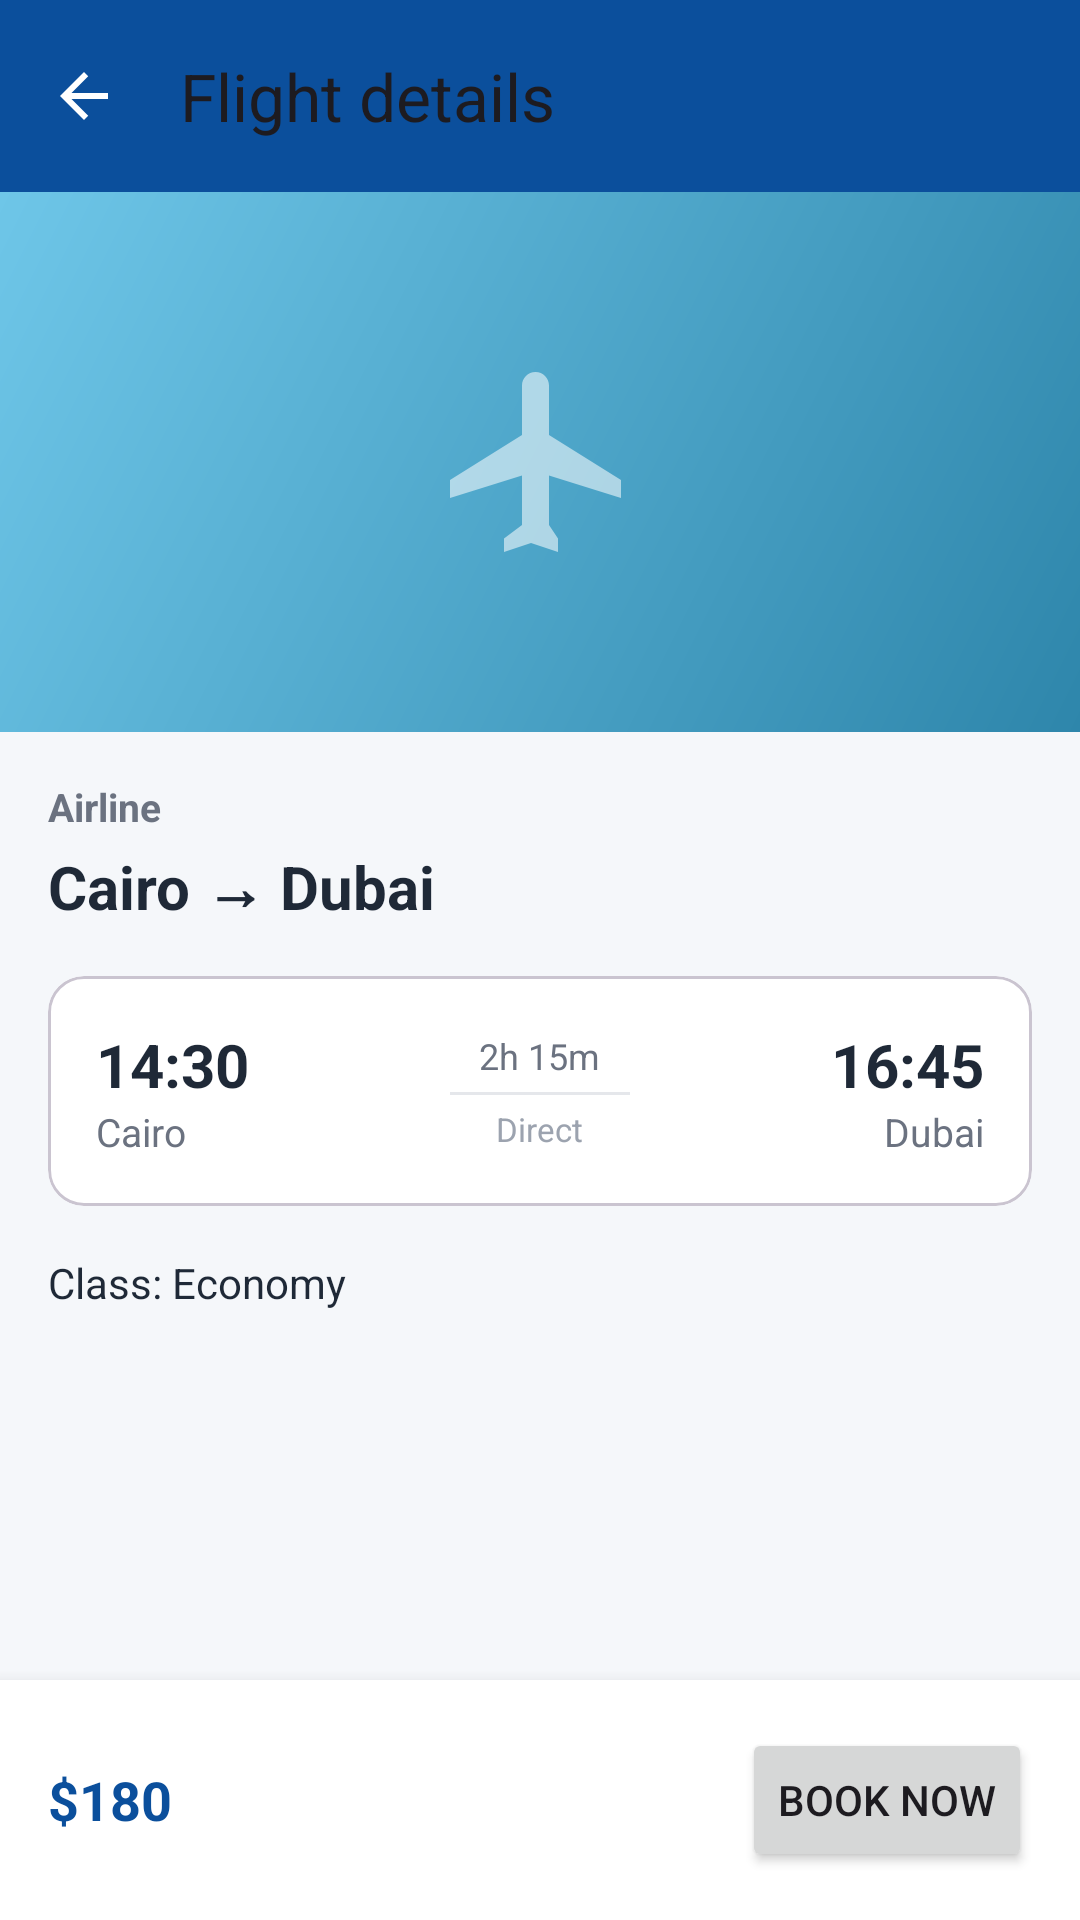

Where icons sit on this 1080px×1920px app screen, as (x1, y1, x2, y2):
flight: (450, 372, 621, 552)
